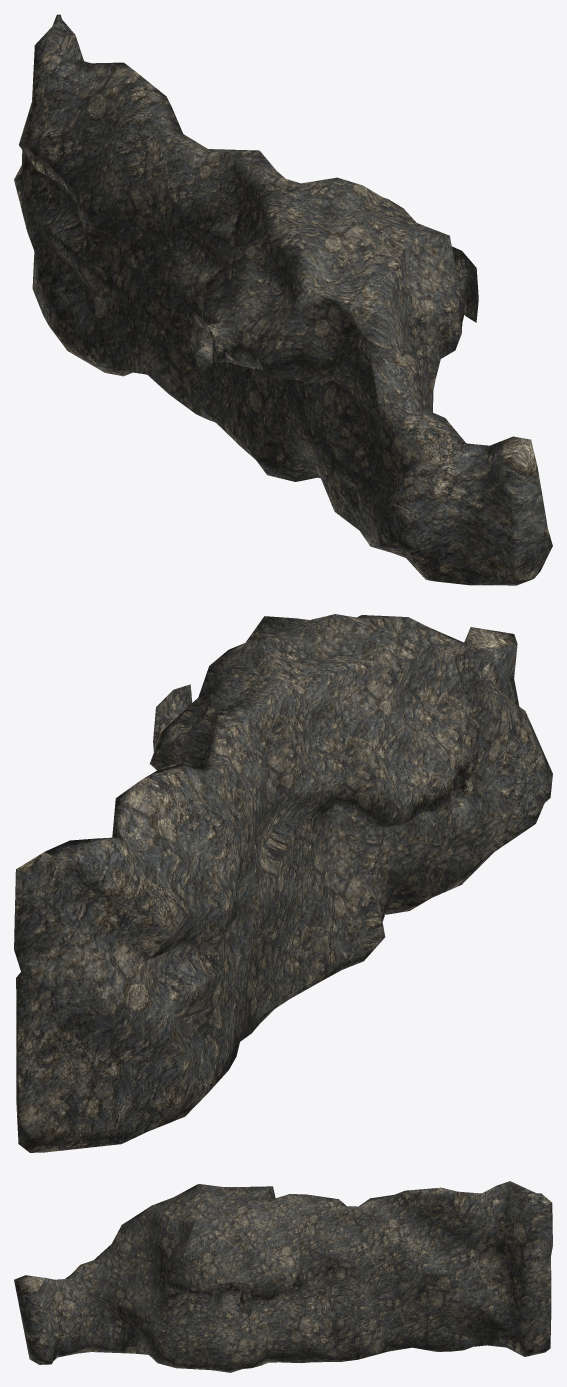
Rendered from Module23_LOD1.fbx.
3 renders of one model, top to bottom at view 1: azimuth 30°, elevation 25°; view 2: azimuth 150°, elevation 25°; view 3: azimuth 270°, elevation 25°, orthographic. The views are drawn at different scales.
Parts seen in each view (by area): view 1: cave_el23_2400_Group12446; view 2: cave_el23_2400_Group12446; view 3: cave_el23_2400_Group12446.
Part boxes in pixels (x1,y1,x2,y2): cave_el23_2400_Group12446: (14, 14, 552, 585); cave_el23_2400_Group12446: (14, 614, 552, 1152); cave_el23_2400_Group12446: (14, 1181, 552, 1372).
Bounding box in the file's own units: 40.94 × 42.98 × 123.
